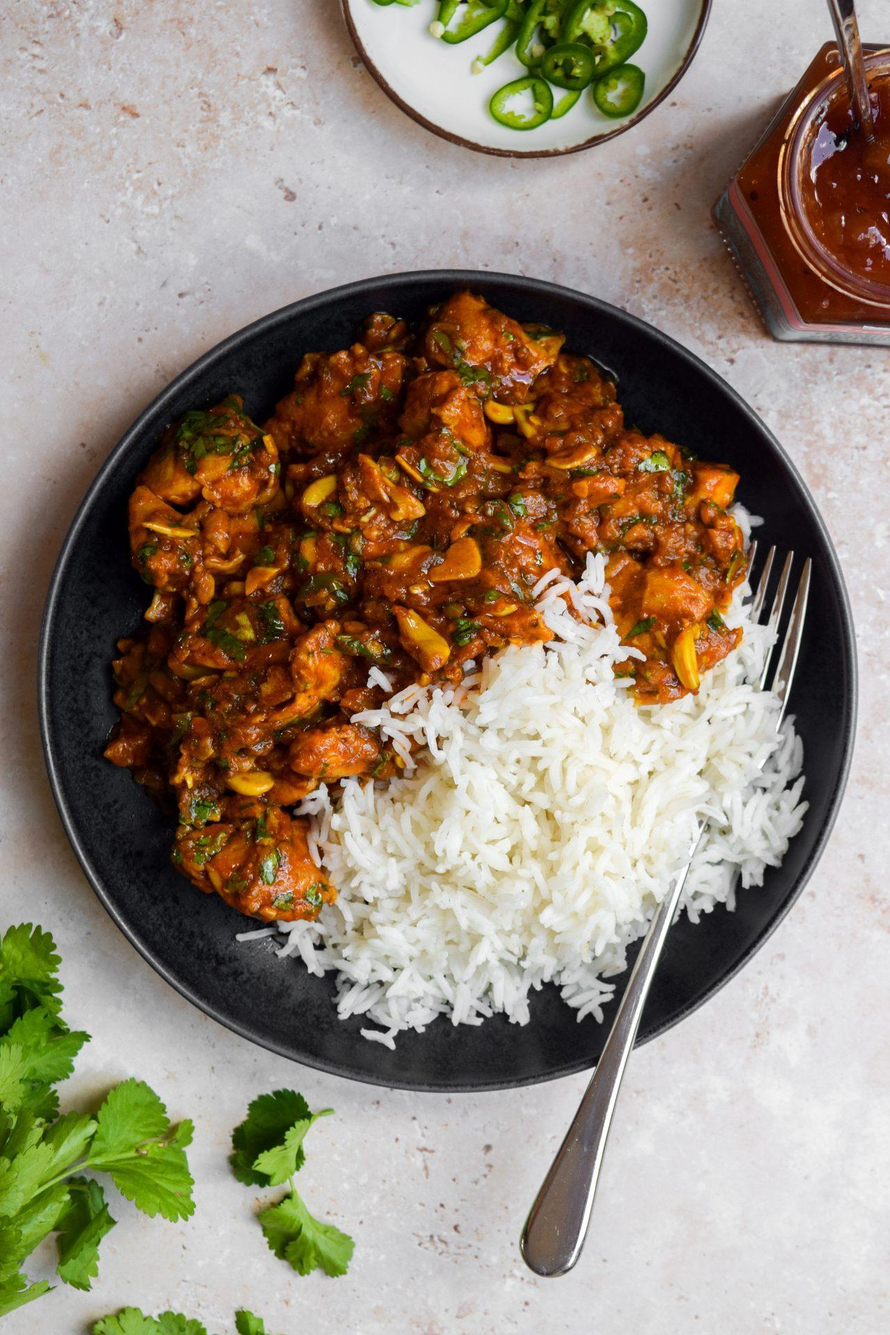chicken: (87, 367, 699, 694)
rice: (348, 732, 782, 1035)
